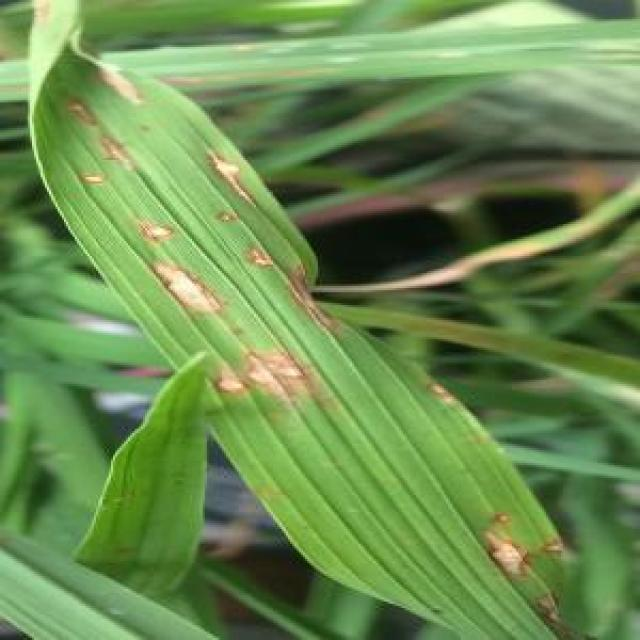Blast: (151, 258, 222, 318), (243, 354, 310, 399), (478, 522, 531, 576), (204, 151, 250, 207), (98, 68, 141, 100), (284, 264, 308, 318), (96, 134, 137, 164), (62, 94, 98, 126), (132, 216, 173, 243), (208, 369, 246, 397), (531, 593, 563, 625), (243, 239, 271, 271), (79, 168, 109, 188), (426, 380, 448, 406), (538, 536, 566, 554), (214, 211, 244, 224), (488, 510, 508, 523)
